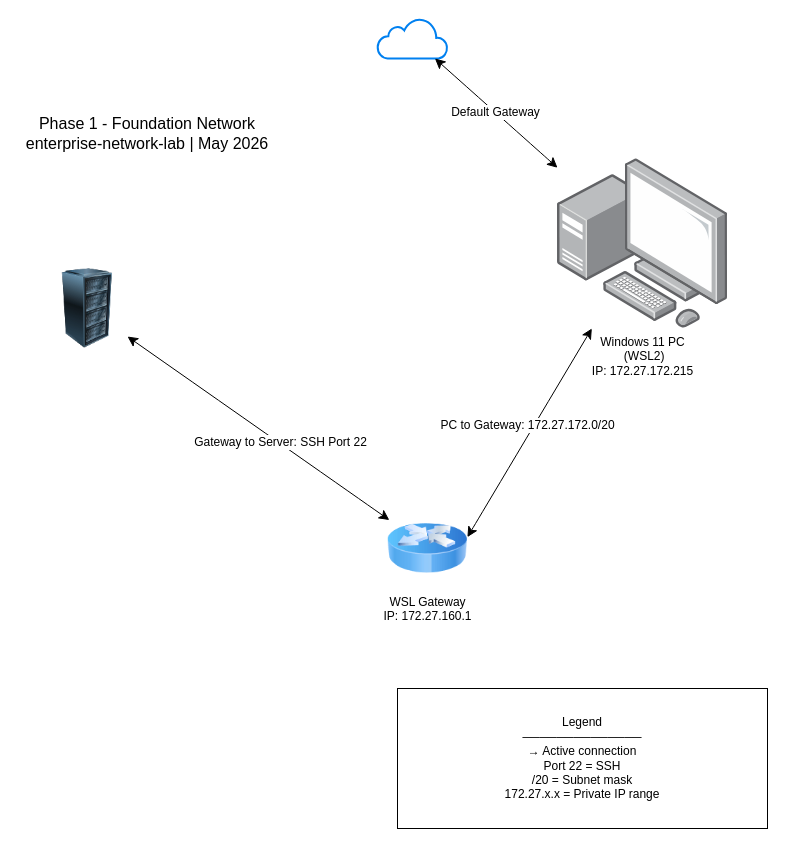
Image size: 785x846. Some labels were removed from this diagram. The centre of each missing label's shape, as x and y in pixels:
"Internet" belongs at point 412,38.
"Ubuntu Server (WSL2) IP: 172.27.172.215/20" belongs at point 87,308.
